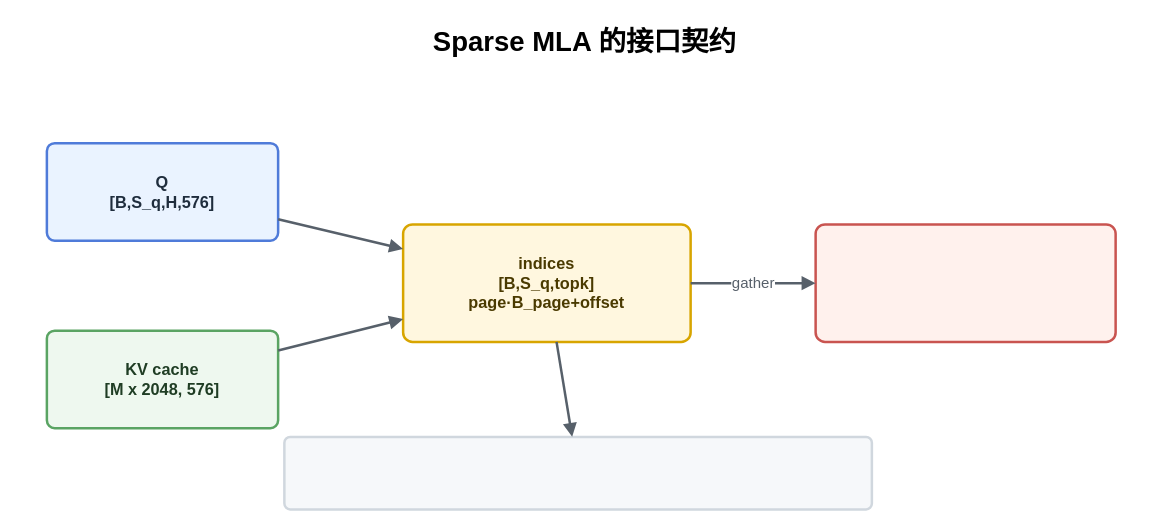
The diagram is 1168 pixels wide and 531 high, and some of its shapes have lost their labels. Here are the shapes that lost their labels. From the top down, the box of each, then its label:
(814, 222, 1116, 342): flash_mla_with_kvcache only selected tokens out + lse
(282, 435, 872, 510): invalid entries = -1 padding 不参与 softmax；kernel 返回 out + lse
